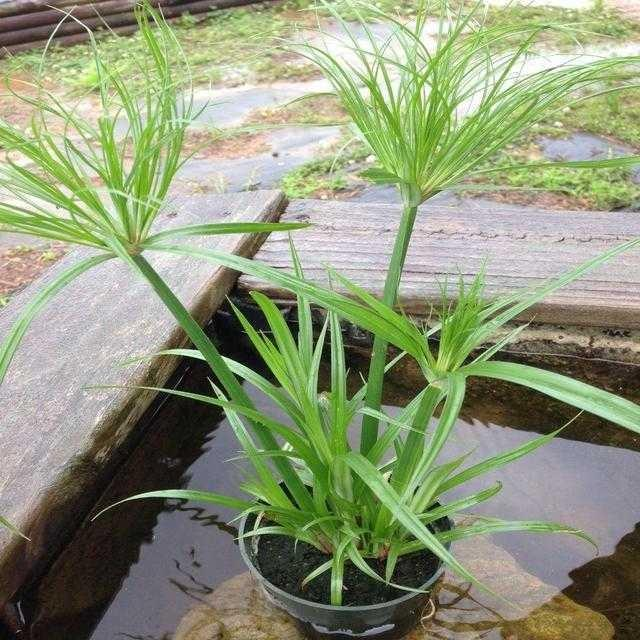Ponds: (1, 194, 640, 640)
